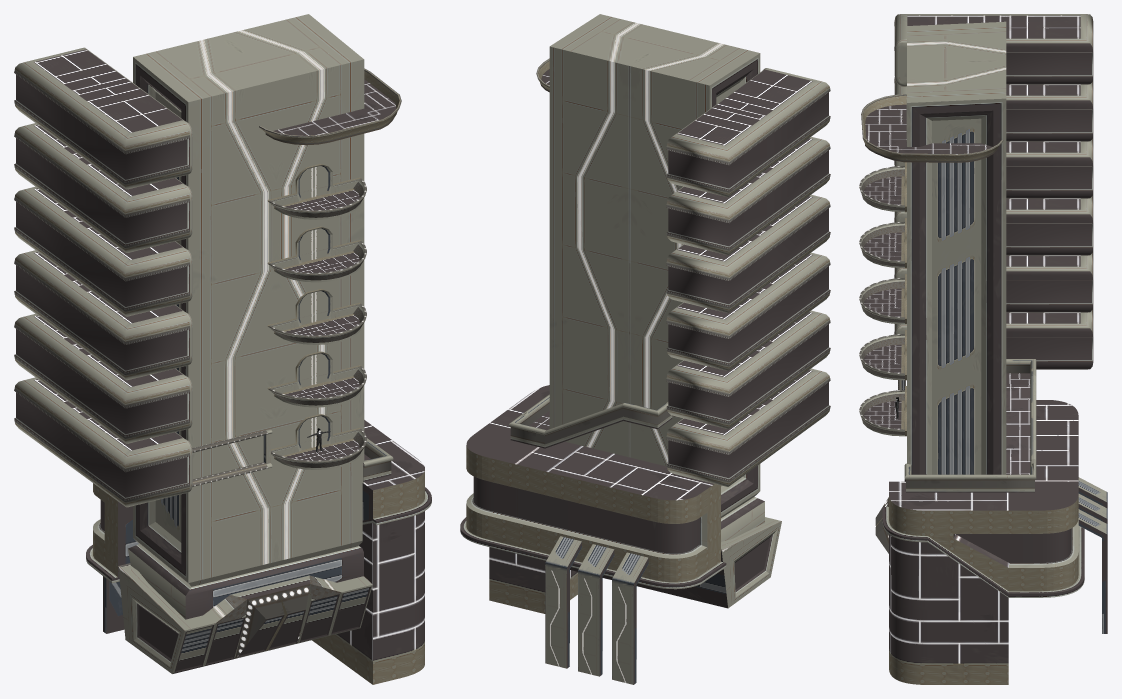
Rendered from KF_SM_PreBuild4.fbx.
3 renders of one model, left to right at view 1: azimuth 30°, elevation 25°; view 2: azimuth 150°, elevation 25°; view 3: azimuth 270°, elevation 25°, orthographic. The views are drawn at different scales.
Visible parts, largest first — view 1: KF_SM_RectB, KF_SM_App1, Box008, KF_SM_BalconDoor, Box007, Object, KF_SM_Dec1, KF_SM_Support, KF_SM_BalconCorner; view 2: KF_SM_App1, KF_SM_RectB, Box008, KF_SM_Support (×3), Box007, KF_SM_BalconCorner; view 3: KF_SM_RectB, Box008, KF_SM_App1, KF_SM_BalconDoor, KF_SM_BalconCorner, Object, KF_SM_Support (×3).
Boxes of the visible parts, x1,y1,x2,y2 form: KF_SM_RectB: [128, 14, 364, 619]; KF_SM_App1: [14, 47, 192, 507]; Box008: [86, 420, 431, 684]; KF_SM_BalconDoor: [267, 164, 366, 469]; Box007: [118, 563, 372, 673]; Object: [259, 68, 401, 145]; KF_SM_Dec1: [192, 429, 272, 486]; KF_SM_Support: [103, 576, 124, 633]; KF_SM_BalconCorner: [363, 438, 393, 481]; KF_SM_App1: [666, 68, 830, 486]; KF_SM_RectB: [549, 14, 764, 541]; Box008: [460, 385, 726, 613]; KF_SM_Support (×3): [545, 536, 648, 684]; Box007: [570, 517, 781, 608]; KF_SM_BalconCorner: [509, 394, 672, 448]; KF_SM_RectB: [904, 21, 1006, 481]; Box008: [882, 400, 1084, 684]; KF_SM_App1: [894, 14, 1093, 369]; KF_SM_BalconDoor: [859, 162, 906, 436]; KF_SM_BalconCorner: [904, 359, 1036, 492]; Object: [861, 94, 1003, 162]; KF_SM_Support (×3): [1078, 477, 1107, 633].
Size of the model in its own units: 5859 by 11010 by 4445.
